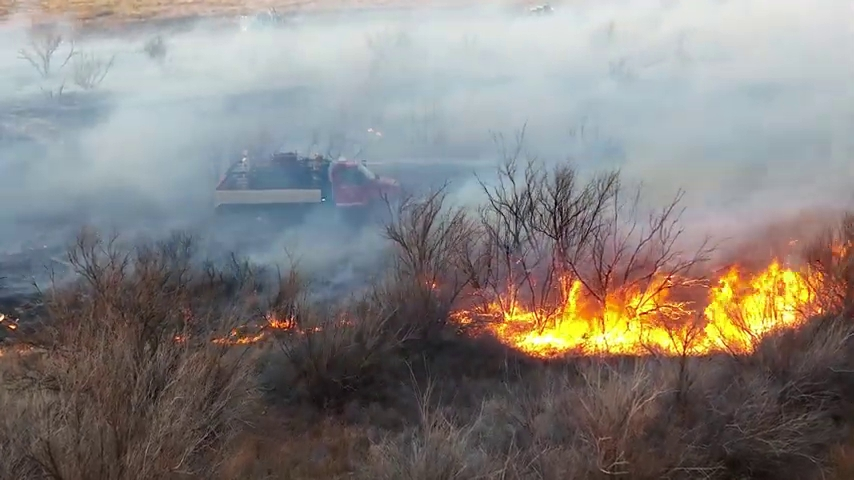forest_fire: (455, 260, 818, 356), (214, 316, 295, 344)
